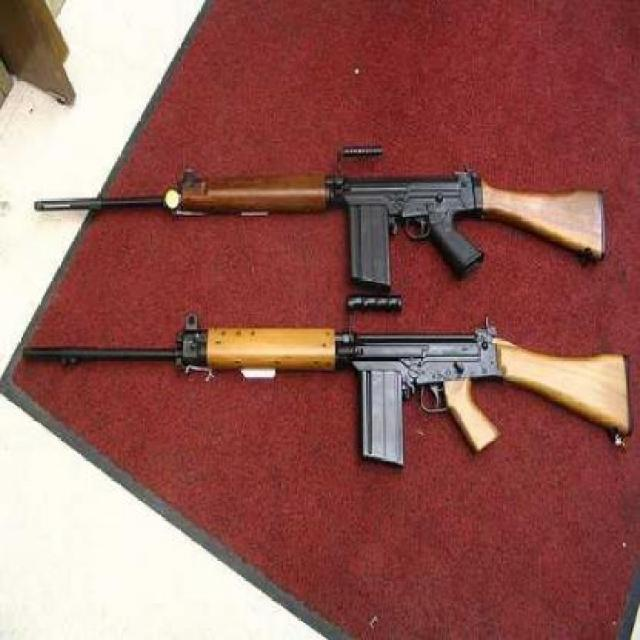weapon: (21, 313, 640, 466), (26, 165, 610, 292)
